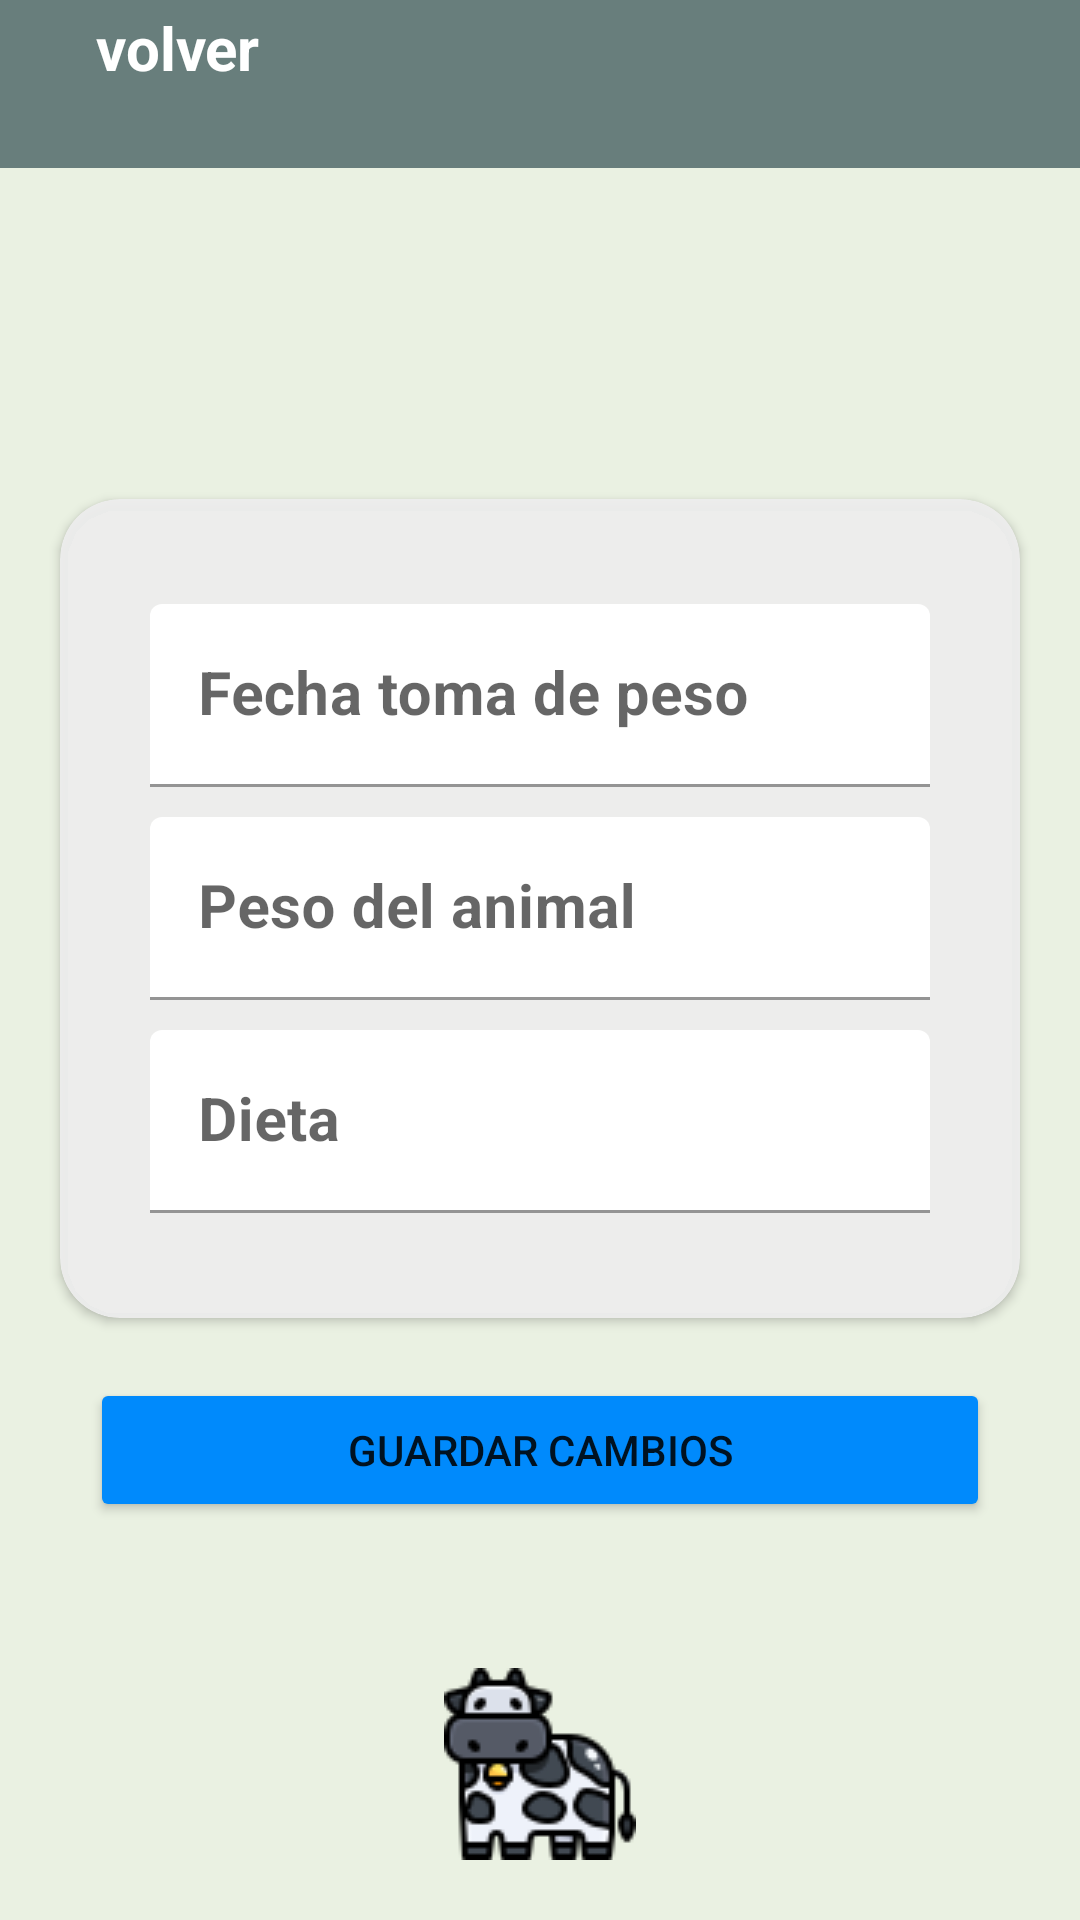

Screen size 1080x1920. Icon name, then its box in pixels as (x1, y1, x2, y2):
cow: (444, 1668, 636, 1860)
